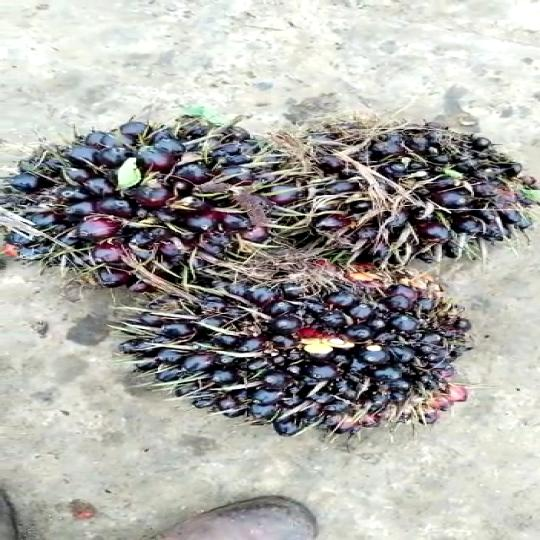mentah: (130, 274, 470, 441), (0, 106, 288, 296), (277, 124, 536, 271)
